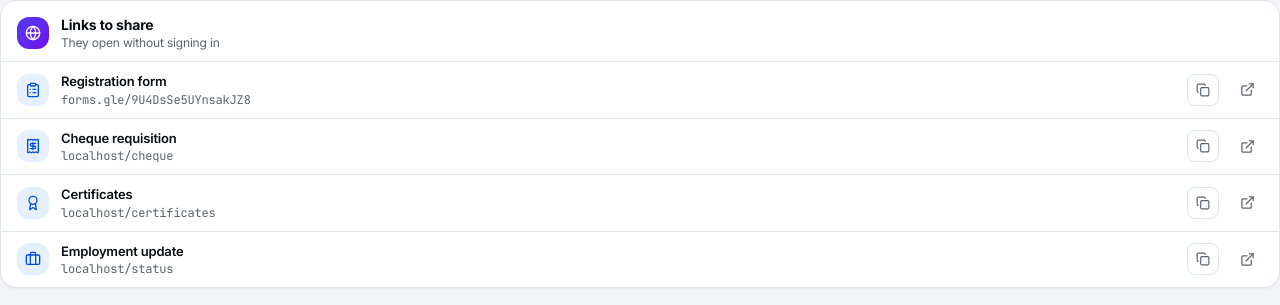
PublicLinksCard › copies the chosen link and shows it was copied
Click the button named "Copy Certificates link" at coordinates (1203, 203), box [1187,187,1219,219]
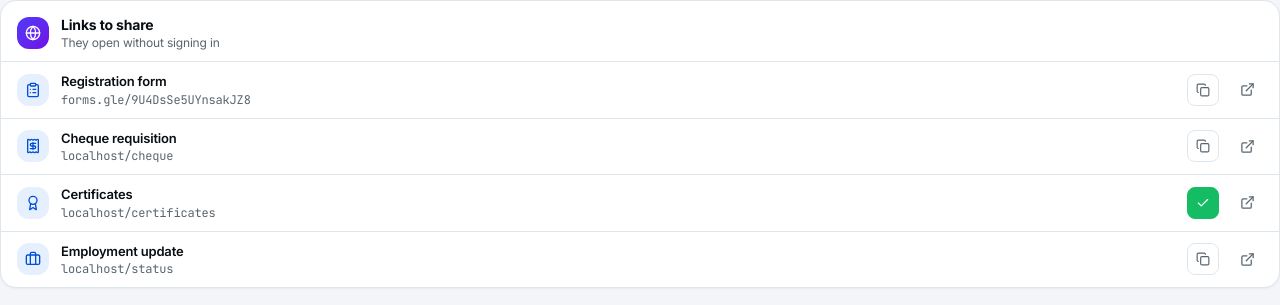
Expected: the button named "Copy Registration form link" is shown, [1187,74,1219,106]
Now the button named "Certificates link copied" is shown, box [1187,187,1219,219]
